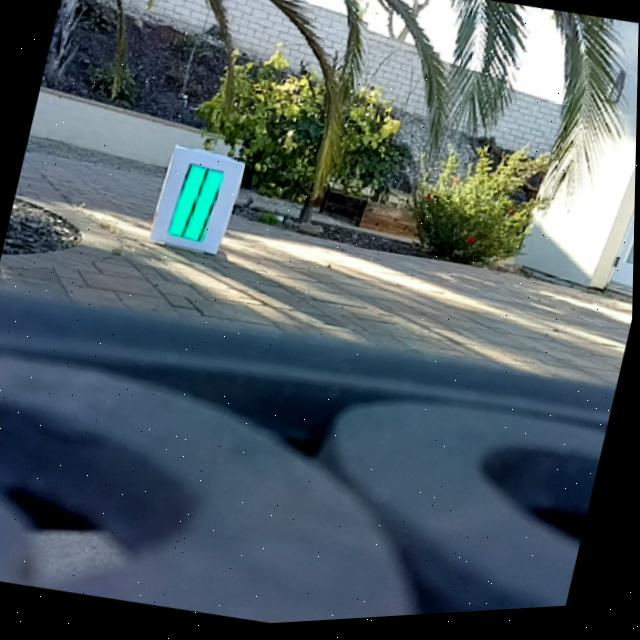led: (165, 159, 228, 249)
